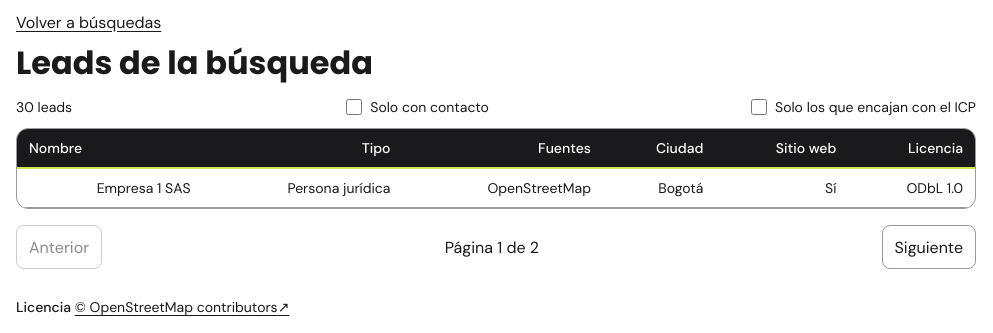
Test: pagina: pide la siguiente con tamano 25 y deshabilita Anterior en la primera
Expected: the text "Empresa 1 SAS" is shown, 17,168 -> 203,208
Expected: the button "Anterior" is disabled, 16,225 -> 102,269
Click the button "Siguiente": click(929, 247) 882,225 -> 976,269
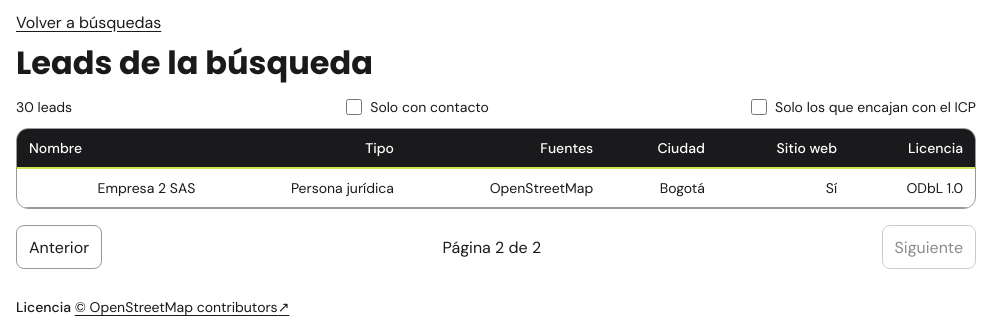
Now the text "Empresa 2 SAS" is shown, box 17,168 -> 207,208
Now the button "Siguiente" is disabled, box 882,225 -> 976,269
